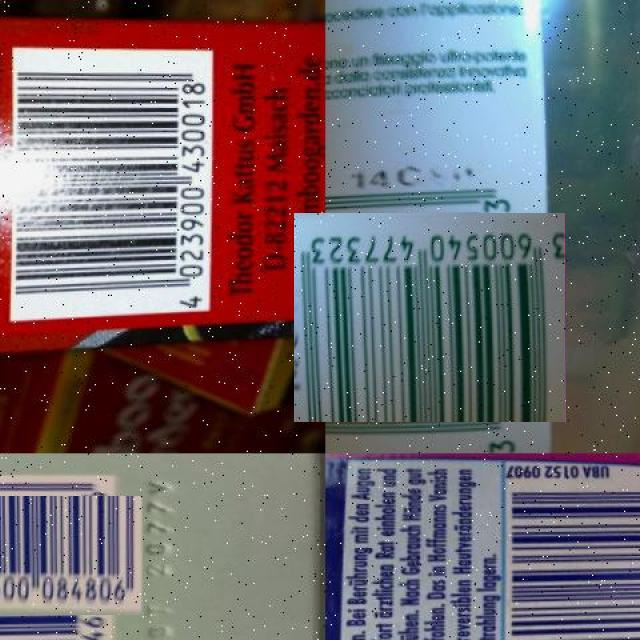Barcode: (310, 197, 550, 438), (11, 44, 214, 323), (502, 481, 640, 639), (0, 484, 131, 627)
